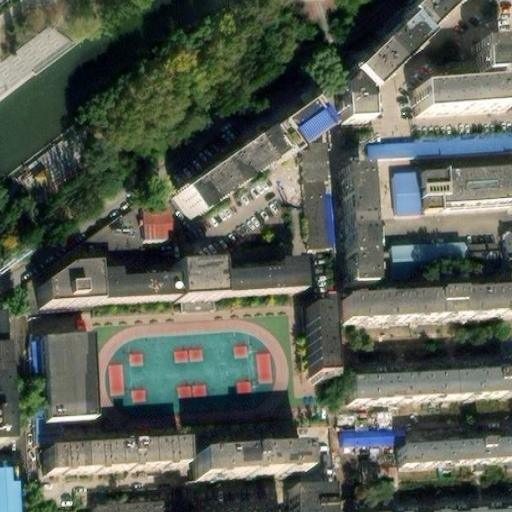building: (170, 133, 279, 223), (339, 287, 512, 327), (390, 166, 512, 222), (346, 368, 512, 407), (415, 38, 500, 114), (347, 22, 420, 97), (43, 441, 187, 475), (358, 131, 512, 161), (37, 346, 91, 431), (189, 451, 300, 490), (336, 167, 370, 291), (395, 433, 512, 467), (385, 240, 466, 282), (214, 262, 297, 299), (87, 269, 172, 304), (259, 108, 315, 161), (34, 270, 89, 312), (374, 498, 512, 512), (302, 300, 327, 374), (463, 233, 503, 277), (170, 264, 215, 301), (339, 78, 368, 124), (338, 424, 395, 445), (139, 211, 168, 242), (91, 505, 185, 512), (291, 496, 330, 512), (500, 232, 512, 261)
